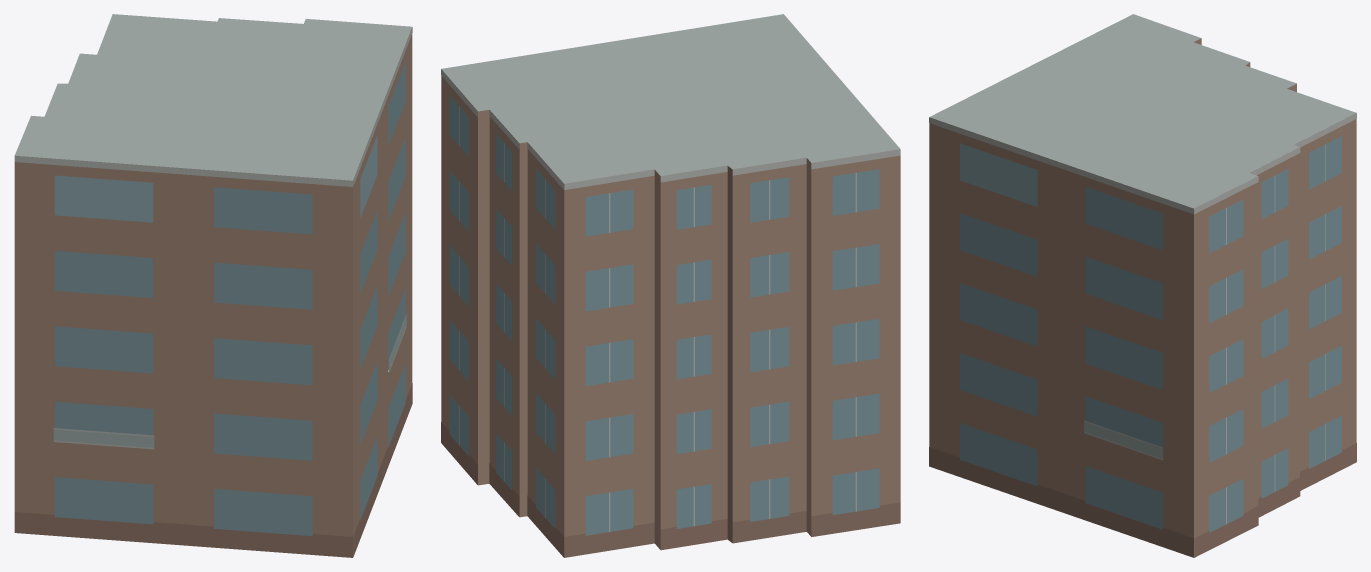
Rendered from survey-upis-32974084.glb.
3 views of the same model, side by side, from view 1: azimuth 30°, elevation 25°; view 2: azimuth 150°, elevation 25°; view 3: azimuth 270°, elevation 25° (orthographic). The views are drawn at different scales.
Parts seen in each view (by area): view 1: survey-upis-32974084.tmp; view 2: survey-upis-32974084.tmp; view 3: survey-upis-32974084.tmp.
Boxes of the visible parts, x1,y1,x2,y2 form: survey-upis-32974084.tmp: [14, 14, 412, 557]; survey-upis-32974084.tmp: [441, 14, 900, 557]; survey-upis-32974084.tmp: [929, 14, 1356, 557].
Bounding box in the file's own units: 17.33 × 14.5 × 16.1.
